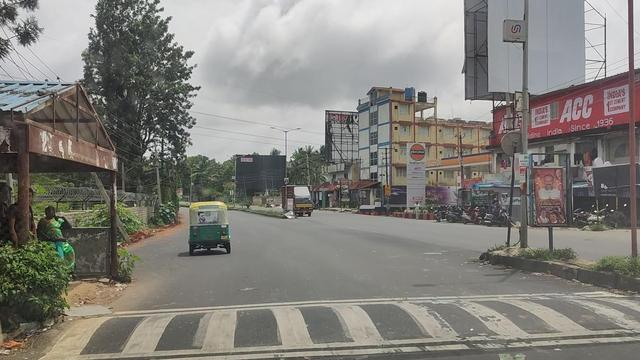LMV: (187, 201, 231, 251)
SpeedBump: (75, 290, 637, 357)
